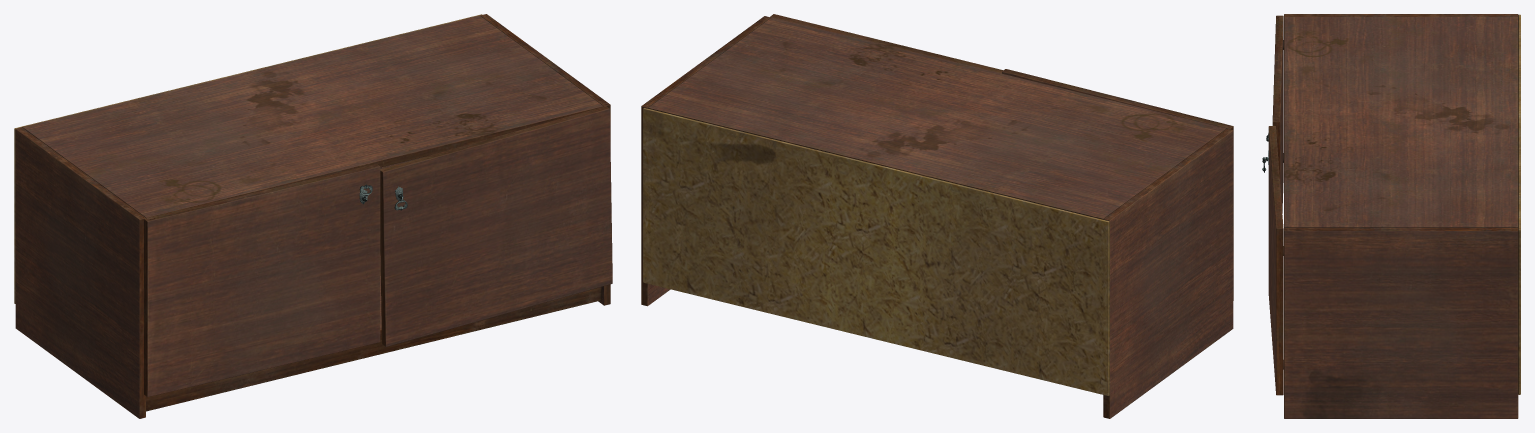
The model's file is soviet_stand_small_old.glb.
The picture shows the model from 3 angles, left to right: view 1: azimuth 30°, elevation 25°; view 2: azimuth 150°, elevation 25°; view 3: azimuth 270°, elevation 25°; orthographic projection. The views are drawn at different scales.
Parts seen in each view (by area): view 1: Cupboard_small.001, Cupboard_small.003, Cupboard_small.002; view 2: Cupboard_small.001, Cupboard_small.003, Cupboard_small.002; view 3: Cupboard_small.001, Cupboard_small.002, Cupboard_small.003.
Part boxes in pixels (x1,y1,x2,y2): Cupboard_small.001: [14, 14, 610, 418]; Cupboard_small.003: [144, 164, 380, 396]; Cupboard_small.002: [380, 106, 612, 346]; Cupboard_small.001: [641, 16, 1233, 418]; Cupboard_small.003: [1002, 69, 1233, 300]; Cupboard_small.002: [770, 14, 1002, 73]; Cupboard_small.001: [1284, 14, 1520, 418]; Cupboard_small.002: [1262, 126, 1283, 395]; Cupboard_small.003: [1266, 15, 1283, 213].
Size of the model in its own units: 2.28 by 0.9246 by 1.15.
Materials: 2 (2 with a texture image).
